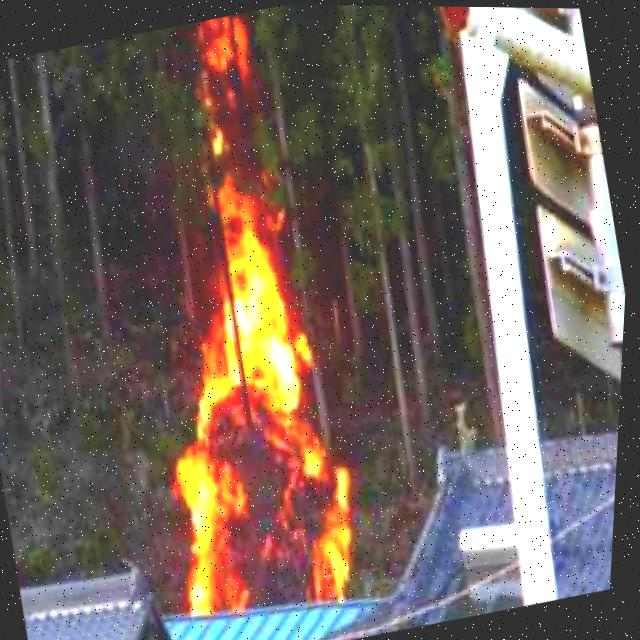Fire: (116, 179, 395, 628), (179, 10, 272, 112)
